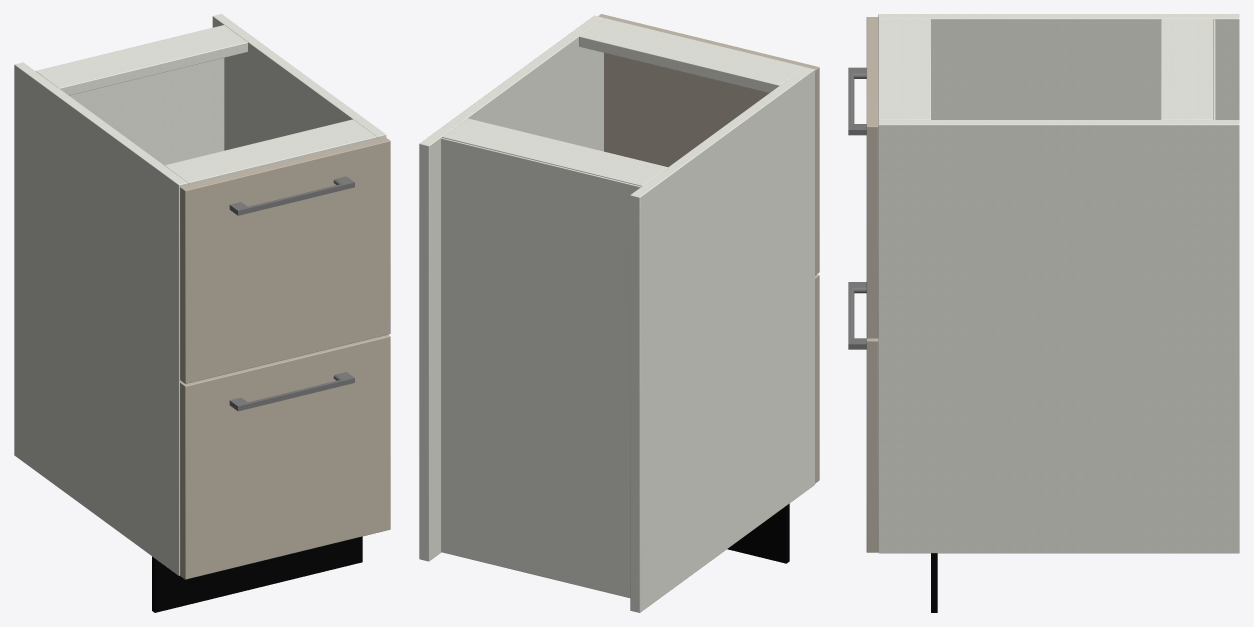
The picture shows the model from 3 angles, left to right: view 1: azimuth 30°, elevation 25°; view 2: azimuth 150°, elevation 25°; view 3: azimuth 270°, elevation 25°; orthographic projection. The views are drawn at different scales.
Visible parts, largest first — view 1: r21, Stranica Leva, Leđa, Stranica Desna, Vezna Zadnja H, Vezna Prednja H, Union (×2); view 2: Leđa, Stranica Leva, Stranica Desna, r21, Vezna Prednja H, Vezna Zadnja H; view 3: Stranica Desna, Stranica Leva, r21, Vezna Prednja H, Vezna Zadnja H, Union (×2).
Part boxes in pixels (x1,y1,x2,y2): r21: (152,137,390,612); Stranica Leva: (14,62,187,575); Leđa: (69,58,224,165); Stranica Desna: (212,14,386,150); Vezna Zadnja H: (36,25,247,95); Vezna Prednja H: (164,119,376,184); Union (×2): (229,176,354,411); Leđa: (441,137,641,597); Stranica Leva: (630,67,814,612); Stranica Desna: (419,15,603,561); r21: (598,14,819,563); Vezna Prednja H: (579,18,804,92); Vezna Zadnja H: (442,118,667,186); Stranica Desna: (878,120,1239,553); Stranica Leva: (878,14,1239,119); r21: (866,17,937,612); Vezna Prednja H: (878,19,930,120); Vezna Zadnja H: (1161,19,1213,119); Union (×2): (848,67,866,349).
Size of the model in its own units: 0.4 by 0.82 by 0.596.
Materials: 4 (2 with a texture image).
